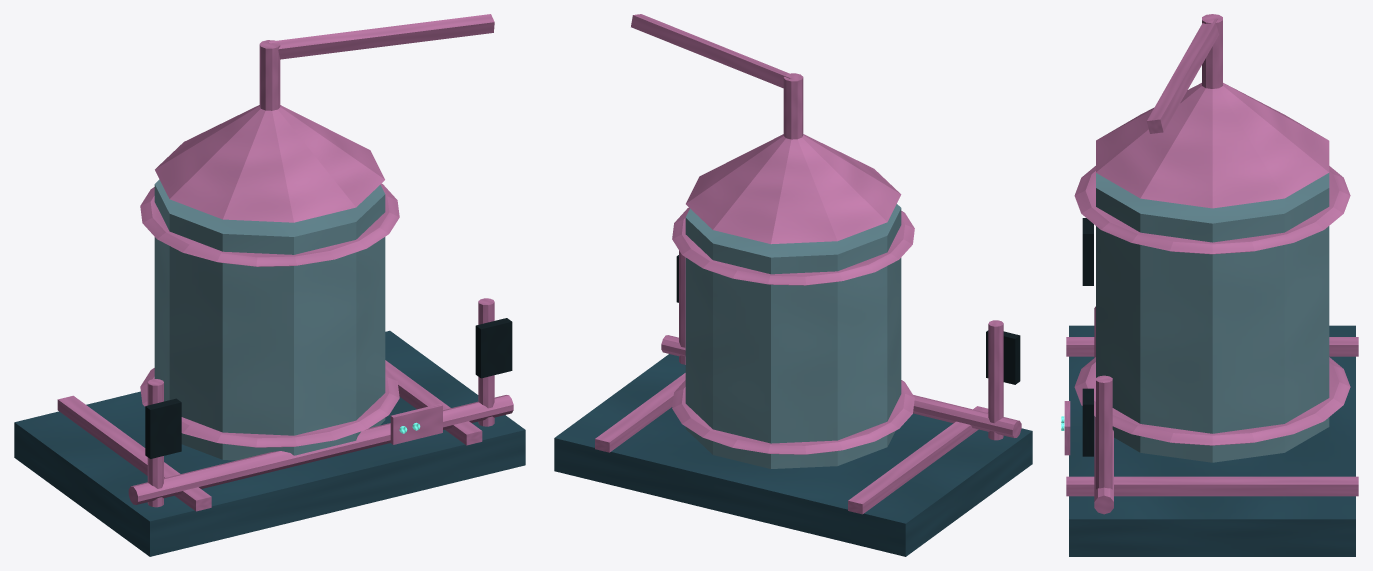
File: atlas100-s061-a02.glb
3 renders of one model, left to right at view 1: azimuth 30°, elevation 25°; view 2: azimuth 150°, elevation 25°; view 3: azimuth 270°, elevation 25°, orthographic. The views are drawn at different scales.
Parts seen in each view (by area): view 1: atlas100-s061-a02:part-003, atlas100-s061-a02:part-000, atlas100-s061-a02:part-007, atlas100-s061-a02:part-014, atlas100-s061-a02:part-005, atlas100-s061-a02:part-009, atlas100-s061-a02:part-004, atlas100-s061-a02:part-001, atlas100-s061-a02:part-013, atlas100-s061-a02:part-011, atlas100-s061-a02:part-002, atlas100-s061-a02:part-015 (+3 smaller); view 2: atlas100-s061-a02:part-003, atlas100-s061-a02:part-000, atlas100-s061-a02:part-007, atlas100-s061-a02:part-005, atlas100-s061-a02:part-004, atlas100-s061-a02:part-001, atlas100-s061-a02:part-009, atlas100-s061-a02:part-014, atlas100-s061-a02:part-002, atlas100-s061-a02:part-010, atlas100-s061-a02:part-008, atlas100-s061-a02:part-011 (+1 smaller); view 3: atlas100-s061-a02:part-003, atlas100-s061-a02:part-000, atlas100-s061-a02:part-007, atlas100-s061-a02:part-002, atlas100-s061-a02:part-005, atlas100-s061-a02:part-004, atlas100-s061-a02:part-009, atlas100-s061-a02:part-012, atlas100-s061-a02:part-001, atlas100-s061-a02:part-008, atlas100-s061-a02:part-014, atlas100-s061-a02:part-013 (+2 smaller).
Boxes of the visible parts, left/top/right/bottom form: atlas100-s061-a02:part-003: left=154, top=179, right=385, bottom=460; atlas100-s061-a02:part-000: left=14, top=330, right=525, bottom=556; atlas100-s061-a02:part-007: left=155, top=105, right=384, bottom=222; atlas100-s061-a02:part-014: left=128, top=395, right=513, bottom=504; atlas100-s061-a02:part-005: left=140, top=183, right=399, bottom=266; atlas100-s061-a02:part-009: left=268, top=14, right=494, bottom=59; atlas100-s061-a02:part-004: left=140, top=368, right=399, bottom=447; atlas100-s061-a02:part-001: left=57, top=395, right=211, bottom=511; atlas100-s061-a02:part-013: left=475, top=318, right=512, bottom=378; atlas100-s061-a02:part-011: left=145, top=398, right=181, bottom=458; atlas100-s061-a02:part-002: left=385, top=360, right=482, bottom=445; atlas100-s061-a02:part-015: left=390, top=404, right=442, bottom=444; atlas100-s061-a02:part-003: left=685, top=204, right=901, bottom=468; atlas100-s061-a02:part-000: left=554, top=354, right=1032, bottom=556; atlas100-s061-a02:part-007: left=686, top=134, right=901, bottom=244; atlas100-s061-a02:part-005: left=672, top=207, right=914, bottom=285; atlas100-s061-a02:part-004: left=672, top=380, right=914, bottom=454; atlas100-s061-a02:part-001: left=848, top=406, right=988, bottom=514; atlas100-s061-a02:part-009: left=631, top=14, right=791, bottom=88; atlas100-s061-a02:part-014: left=661, top=335, right=1021, bottom=437; atlas100-s061-a02:part-002: left=595, top=373, right=685, bottom=452; atlas100-s061-a02:part-010: left=988, top=320, right=1003, bottom=440; atlas100-s061-a02:part-008: left=783, top=73, right=803, bottom=139; atlas100-s061-a02:part-011: left=986, top=330, right=1020, bottom=384; atlas100-s061-a02:part-003: left=1096, top=173, right=1329, bottom=462; atlas100-s061-a02:part-000: left=1069, top=325, right=1355, bottom=556; atlas100-s061-a02:part-007: left=1096, top=83, right=1329, bottom=208; atlas100-s061-a02:part-002: left=1066, top=476, right=1358, bottom=496; atlas100-s061-a02:part-005: left=1074, top=166, right=1350, bottom=254; atlas100-s061-a02:part-004: left=1074, top=357, right=1350, bottom=445; atlas100-s061-a02:part-009: left=1147, top=18, right=1219, bottom=133; atlas100-s061-a02:part-012: left=1096, top=375, right=1112, bottom=489; atlas100-s061-a02:part-001: left=1066, top=337, right=1358, bottom=356; atlas100-s061-a02:part-008: left=1202, top=14, right=1222, bottom=88; atlas100-s061-a02:part-014: left=1094, top=306, right=1113, bottom=514; atlas100-s061-a02:part-013: left=1082, top=388, right=1093, bottom=456.
Size of the model in its own units: 2.95 by 3.06 by 1.87.
Materials: 5 (5 with a texture image).
